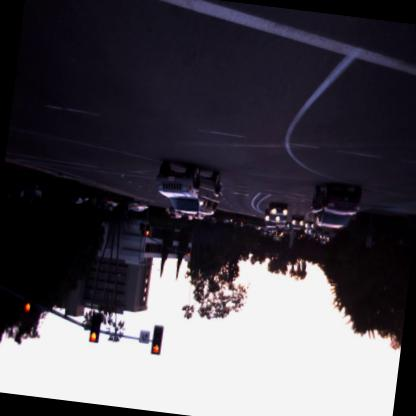trafficlight: (20, 281, 36, 316), (86, 310, 102, 344), (149, 324, 163, 356), (144, 220, 151, 236), (186, 244, 192, 257)
